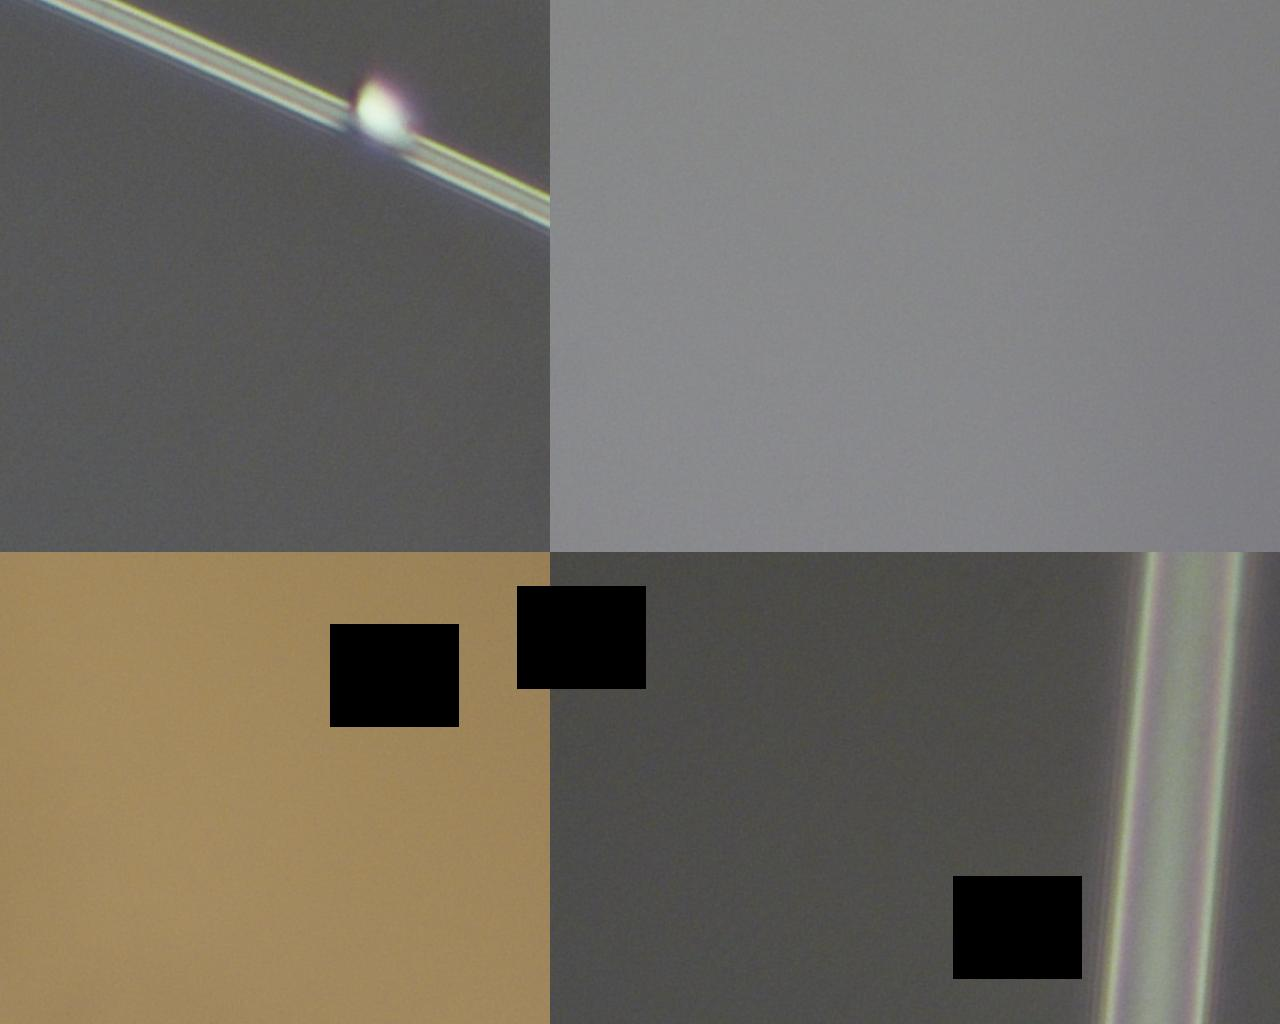fiber: (127, 421, 1151, 510)
